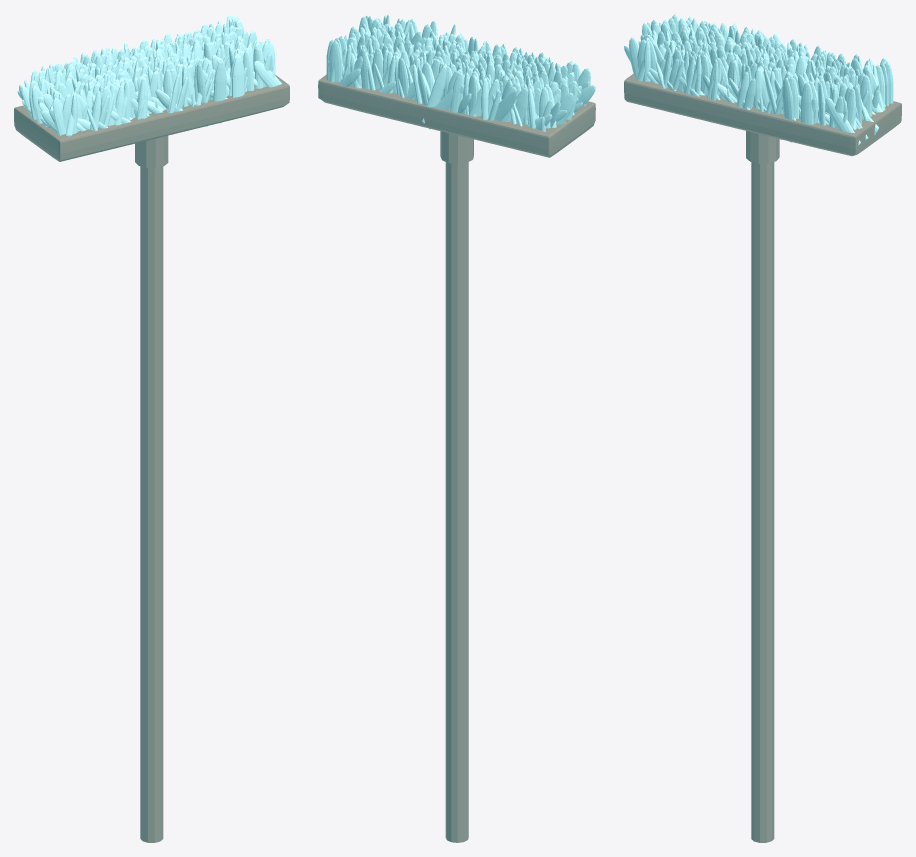
The model's file is broom.fbx.
3 renders of one model, left to right at view 1: azimuth 30°, elevation 25°; view 2: azimuth 150°, elevation 25°; view 3: azimuth 330°, elevation 25°, orthographic.
Parts seen in each view (by area): view 1: Cylinder.005; view 2: Cylinder.005; view 3: Cylinder.005.
Part boxes in pixels (left/top/right/bottom): Cylinder.005: left=14, top=74, right=289, bottom=842; Cylinder.005: left=318, top=74, right=595, bottom=842; Cylinder.005: left=624, top=74, right=901, bottom=842.
Bounding box in the file's own units: 59.4 × 177 × 548.
